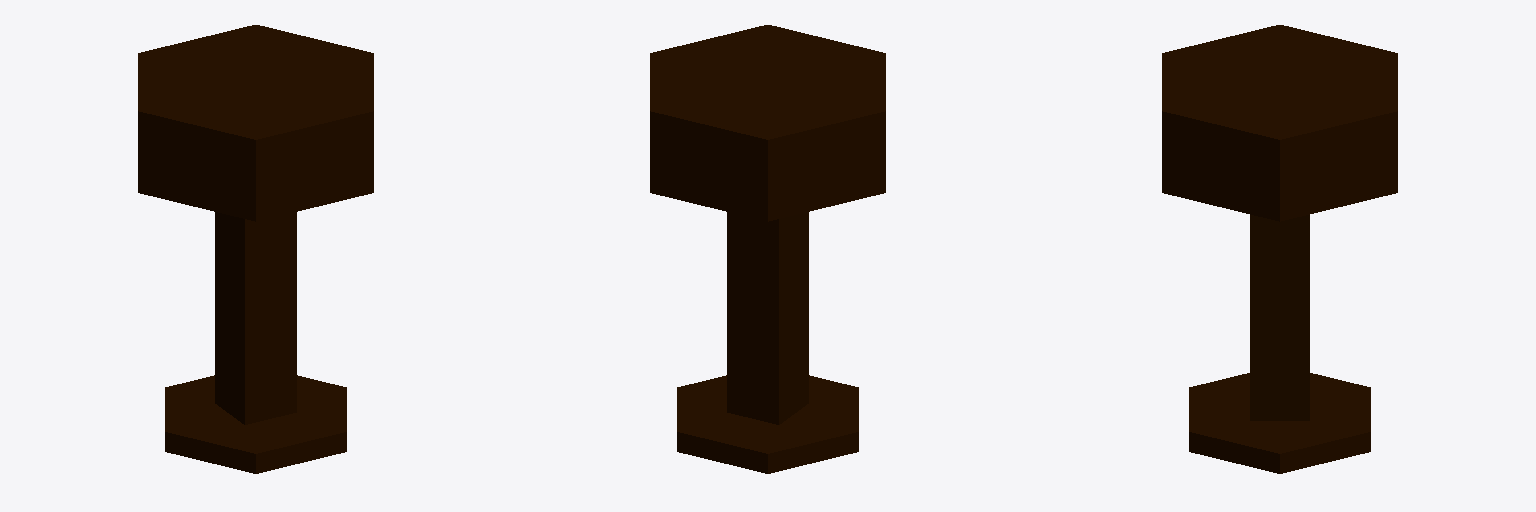
The model's file is barszek.obj.
3 views of the same model, side by side, from view 1: azimuth 30°, elevation 25°; view 2: azimuth 150°, elevation 25°; view 3: azimuth 270°, elevation 25° (orthographic).
Parts seen in each view (by area): view 1: barszek; view 2: barszek; view 3: barszek.
Part boxes in pixels (left/top/right/bottom): barszek: left=138, top=25, right=373, bottom=473; barszek: left=650, top=25, right=885, bottom=473; barszek: left=1162, top=25, right=1397, bottom=473.
Bounding box in the file's own units: 36.34 × 50.97 × 31.47.